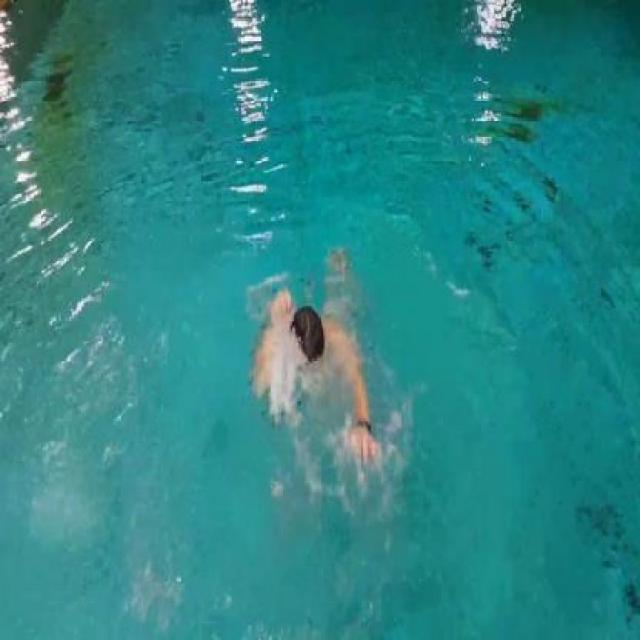Out of Water: (248, 276, 385, 499)
